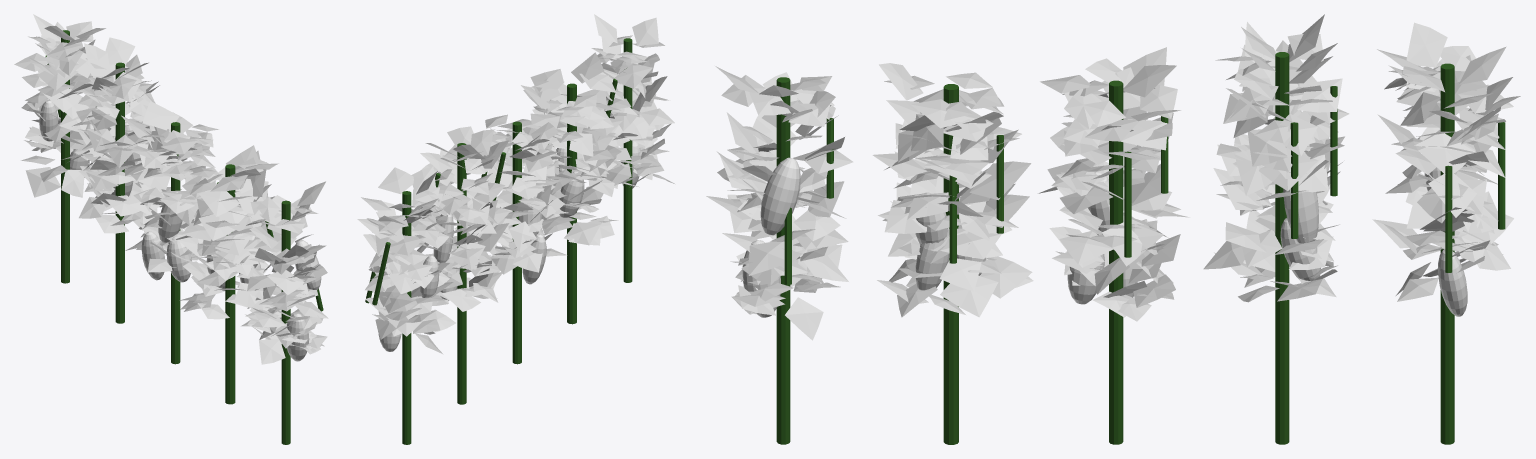
File: high_poly_pimiento_variants_5.fbx
3 renders of one model, left to right at view 1: azimuth 30°, elevation 25°; view 2: azimuth 150°, elevation 25°; view 3: azimuth 270°, elevation 25°, orthographic. The views are drawn at different scales.
Parts seen in each view (by area): view 1: Pimiento_R04 P01, Pimiento_R02 P01, Pimiento_R01 P01, Pimiento_R03 P01, Pimiento_R05 P01; view 2: Pimiento_R05 P01, Pimiento_R02 P01, Pimiento_R04 P01, Pimiento_R03 P01, Pimiento_R01 P01; view 3: Pimiento_R04 P01, Pimiento_R02 P01, Pimiento_R03 P01, Pimiento_R05 P01, Pimiento_R01 P01.
Part boxes in pixels (<box>): Pimiento_R04 P01: <box>72,37,159,323</box>; Pimiento_R02 P01: <box>178,145,278,404</box>; Pimiento_R01 P01: <box>241,181,328,444</box>; Pimiento_R03 P01: <box>121,101,218,364</box>; Pimiento_R05 P01: <box>14,14,105,283</box>; Pimiento_R05 P01: <box>357,166,455,444</box>; Pimiento_R02 P01: <box>521,52,623,324</box>; Pimiento_R04 P01: <box>420,126,510,404</box>; Pimiento_R03 P01: <box>478,113,567,364</box>; Pimiento_R01 P01: <box>591,14,674,282</box>; Pimiento_R04 P01: <box>1203,14,1349,444</box>; Pimiento_R02 P01: <box>872,63,1033,444</box>; Pimiento_R03 P01: <box>1038,47,1189,444</box>; Pimiento_R05 P01: <box>1372,22,1520,444</box>; Pimiento_R01 P01: <box>706,66,853,444</box>.
Size of the model in its own units: 0.7548 by 2.17 by 3.9.
